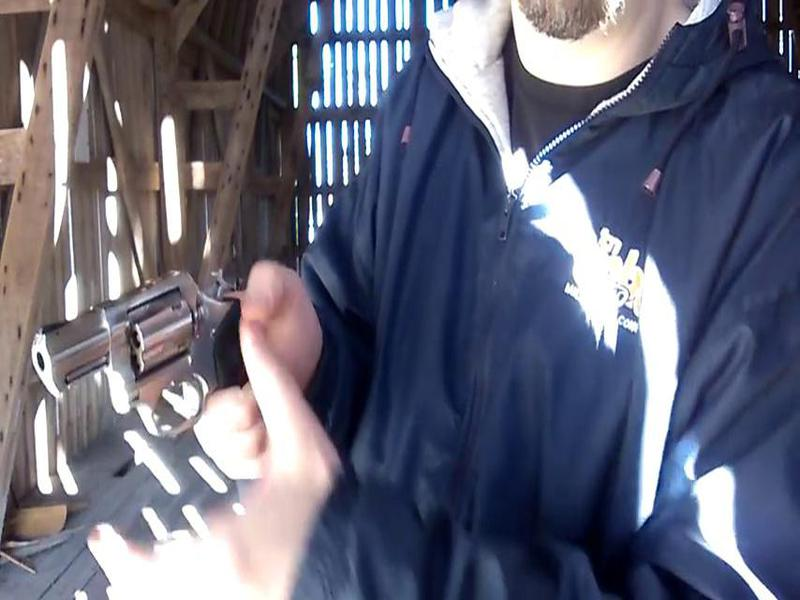Revolver: (24, 246, 257, 447)
